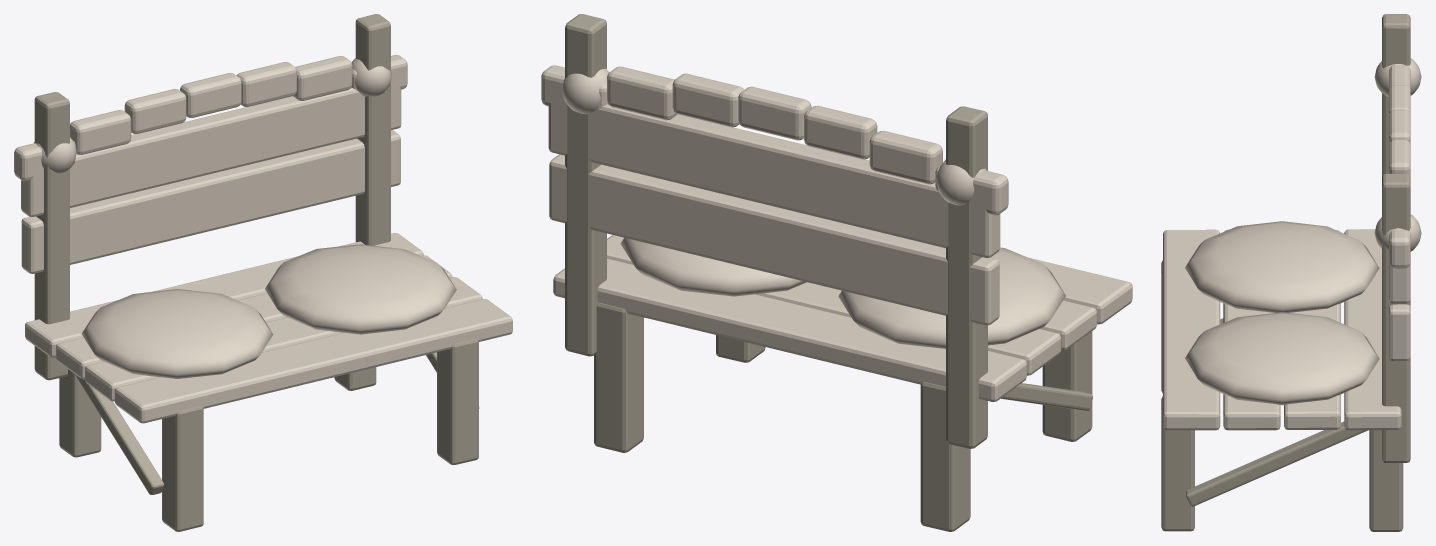
File: SM_WLA_Bench_A.fbx
3 renders of one model, left to right at view 1: azimuth 30°, elevation 25°; view 2: azimuth 150°, elevation 25°; view 3: azimuth 270°, elevation 25°, orthographic. The views are drawn at different scales.
Parts seen in each view (by area): view 1: SM_WLA_Bench_A; view 2: SM_WLA_Bench_A; view 3: SM_WLA_Bench_A.
Part boxes in pixels (<box>): SM_WLA_Bench_A: <box>14,14,512,531</box>; SM_WLA_Bench_A: <box>541,14,1132,531</box>; SM_WLA_Bench_A: <box>1161,14,1421,531</box>.
Size of what is drawn, in the model's own units: 0.775 by 1.35 by 1.18.
